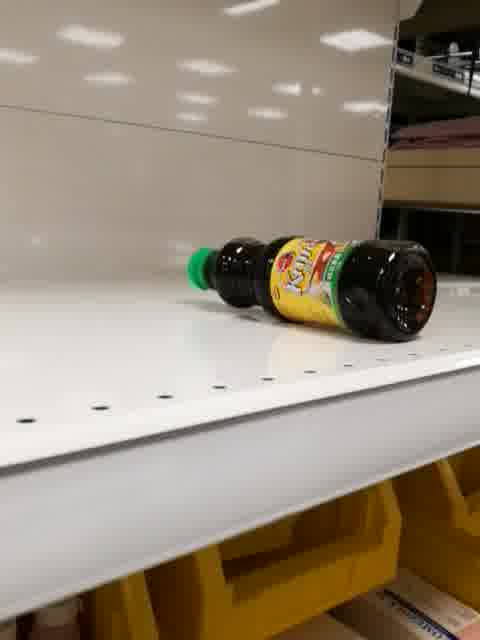cookingoil: (183, 233, 438, 346)
